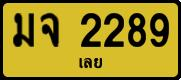letters: (12, 11, 36, 48), (103, 11, 126, 48), (148, 11, 171, 48), (79, 12, 102, 48), (39, 12, 61, 48), (127, 11, 147, 48)
province: (77, 55, 106, 70)
